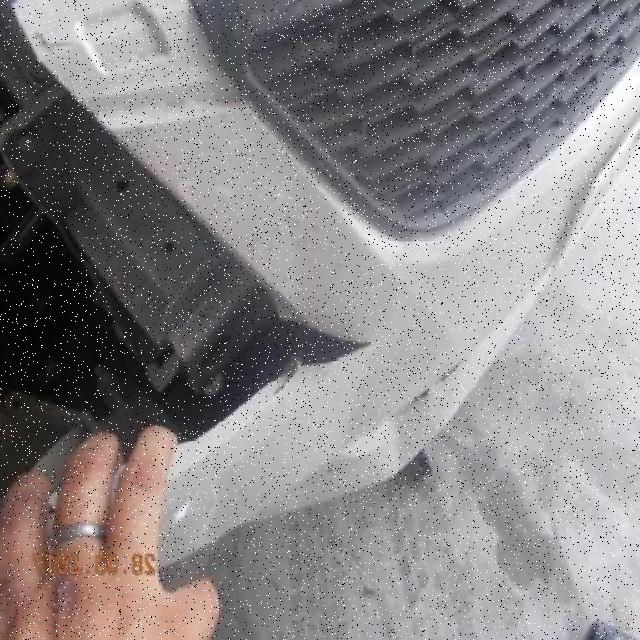damage: (12, 6, 369, 496)
